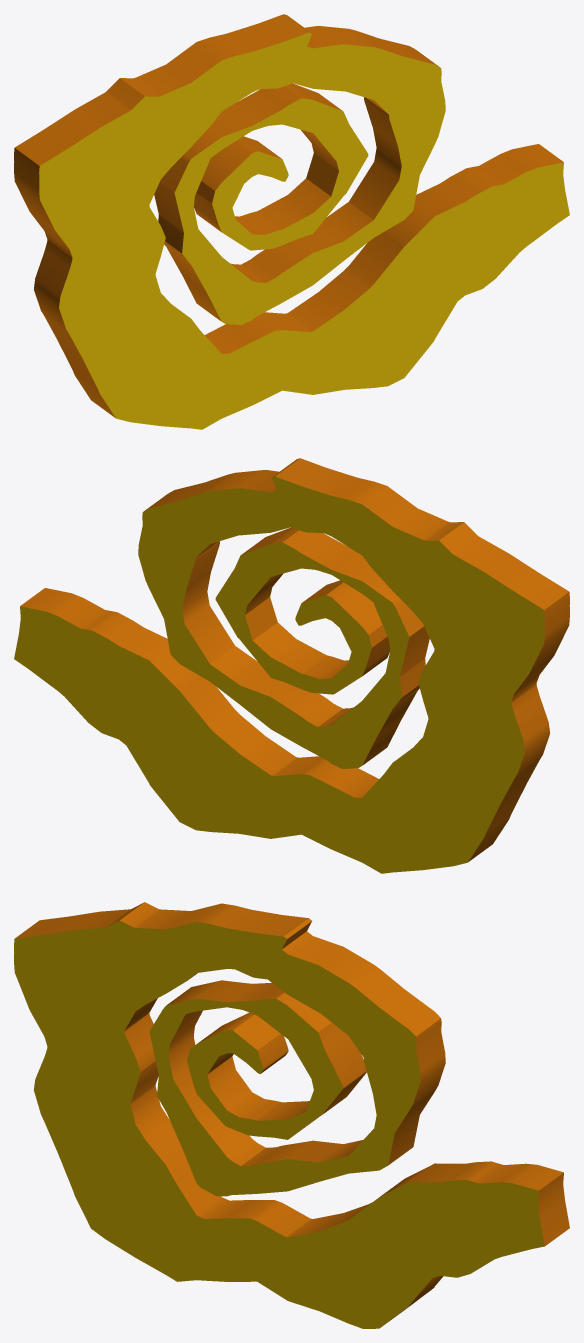
Rendered from geometrica.fbx.
3 renders of one model, top to bottom at view 1: azimuth 30°, elevation 25°; view 2: azimuth 150°, elevation 25°; view 3: azimuth 330°, elevation 25°, orthographic.
Visible parts, largest first — view 1: planarTrimmedSurface1; view 2: planarTrimmedSurface1; view 3: planarTrimmedSurface1.
Boxes of the visible parts, <box> form: planarTrimmedSurface1: <box>14,14,569,429</box>; planarTrimmedSurface1: <box>14,458,569,873</box>; planarTrimmedSurface1: <box>14,902,569,1328</box>.
Bounding box in the file's own units: 18.41 × 12.36 × 1.51.
